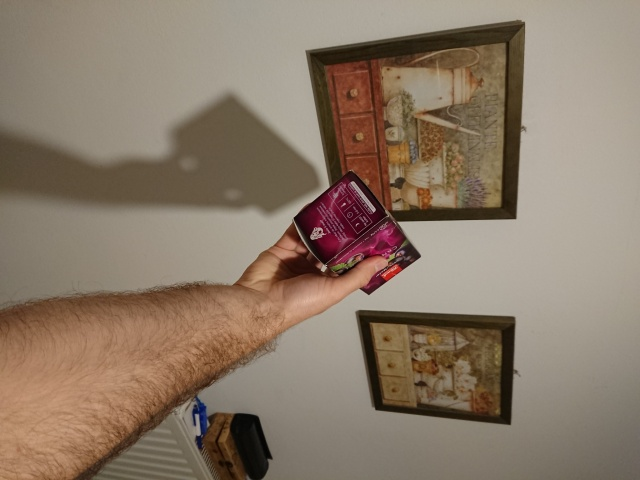Franck Black Currant Tea 60g: (290, 167, 423, 296)
